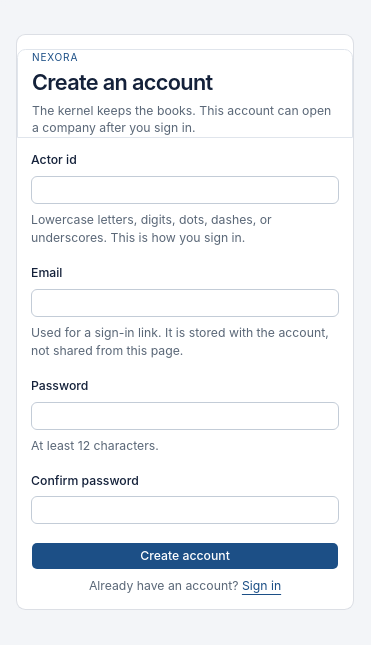
sign-up page › keeps a mismatched password on the page
In the field with test id "signup-actor": (185, 190) [31,176,339,204], type "ada.ok"
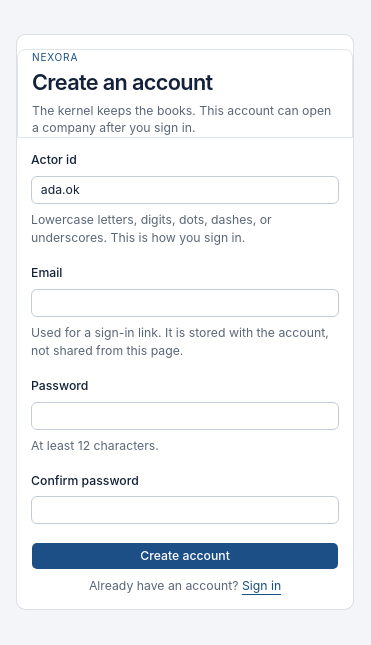
In the field with test id "signup-email": (185, 303) [31,289,339,317], type "ada.ok@example.com"
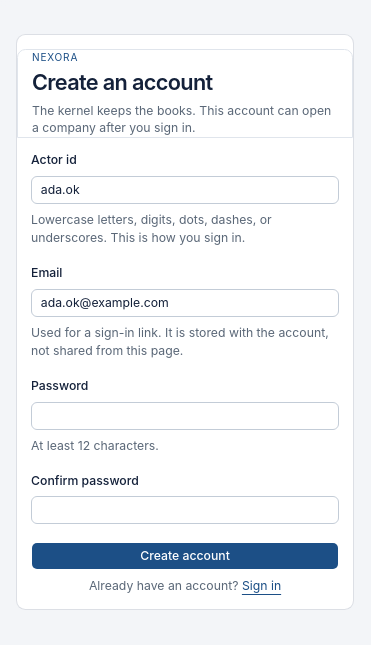
In the password field with test id "signup-password": (185, 416) [31,402,339,430], type "correct horse battery staple"
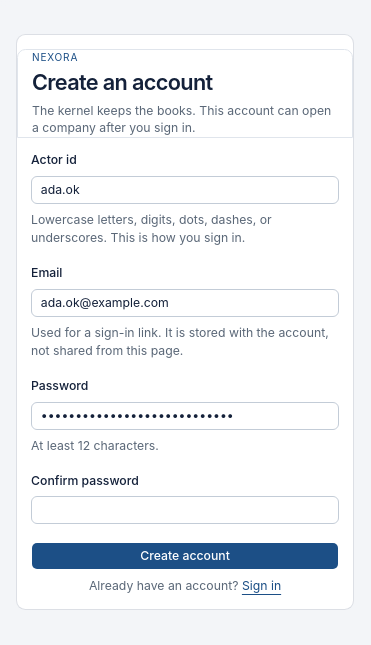
In the password field with test id "signup-confirm": (185, 510) [31,496,339,524], type "different password"
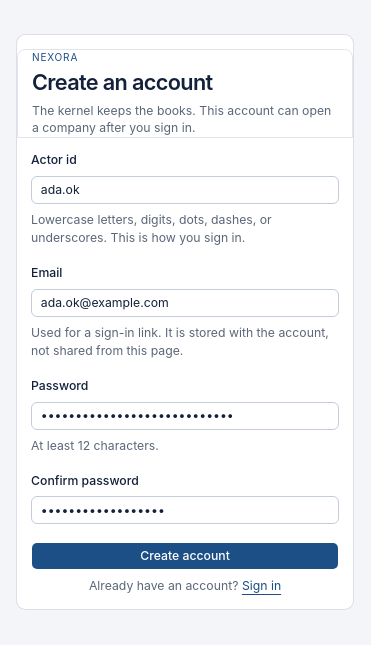
Click the button with test id "signup-submit": (185, 556) [31,542,339,570]
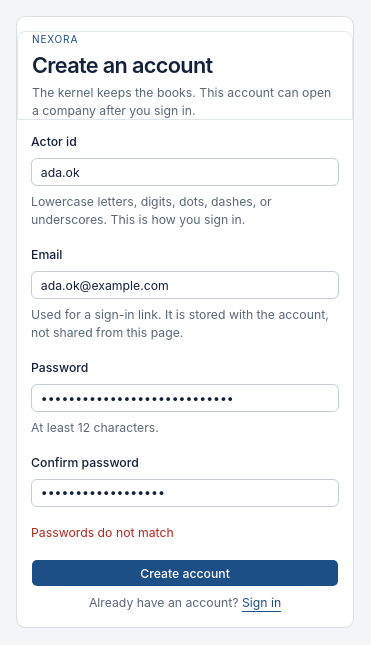
Expected: the message reads "Passwords do not match", [31,525,174,540]
